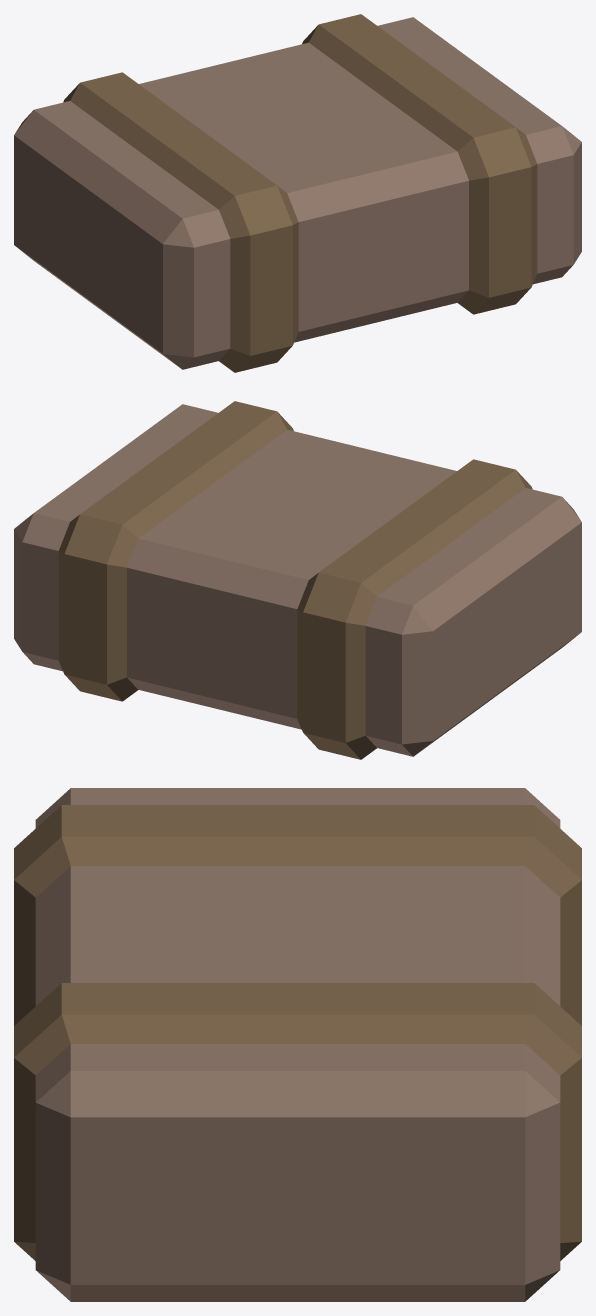
The model's file is SmallCase.fbx.
3 views of the same model, one above another, from view 1: azimuth 30°, elevation 25°; view 2: azimuth 150°, elevation 25°; view 3: azimuth 270°, elevation 25° (orthographic). The views are drawn at different scales.
Parts seen in each view (by area): view 1: SmallCase; view 2: SmallCase; view 3: SmallCase.
Part boxes in pixels (x1,y1,x2,y2): SmallCase: (14,14,581,372); SmallCase: (14,401,581,759); SmallCase: (14,788,581,1301).
Size of the model in its own units: 0.4722 by 0.3629 by 0.1906.
